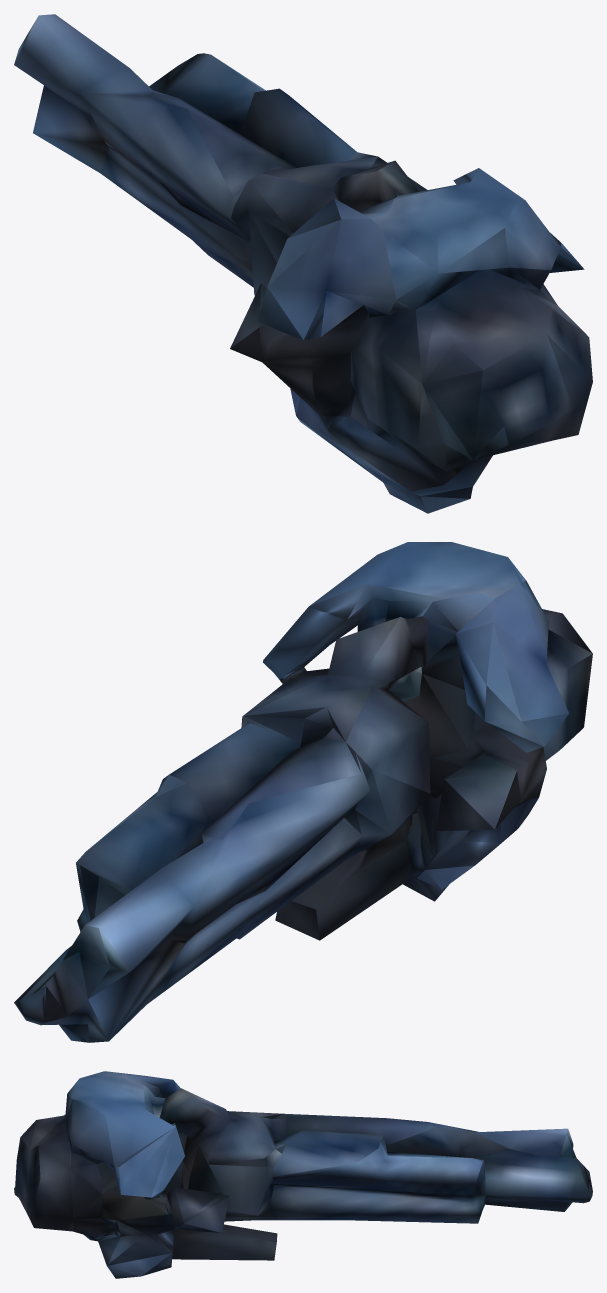
The model's file is fleet3_weapon_short.glb.
3 renders of one model, top to bottom at view 1: azimuth 30°, elevation 25°; view 2: azimuth 150°, elevation 25°; view 3: azimuth 270°, elevation 25°, orthographic. The views are drawn at different scales.
Visible parts, largest first — view 1: weapon_short; view 2: weapon_short; view 3: weapon_short.
Part boxes in pixels (box(x1,y1,x2,y2)): weapon_short: box(14, 14, 592, 513); weapon_short: box(14, 542, 592, 1042); weapon_short: box(14, 1071, 592, 1278).
Bounding box in the file's own units: 0.072 × 0.0721 × 0.2028.
1 material, 1 textured.
